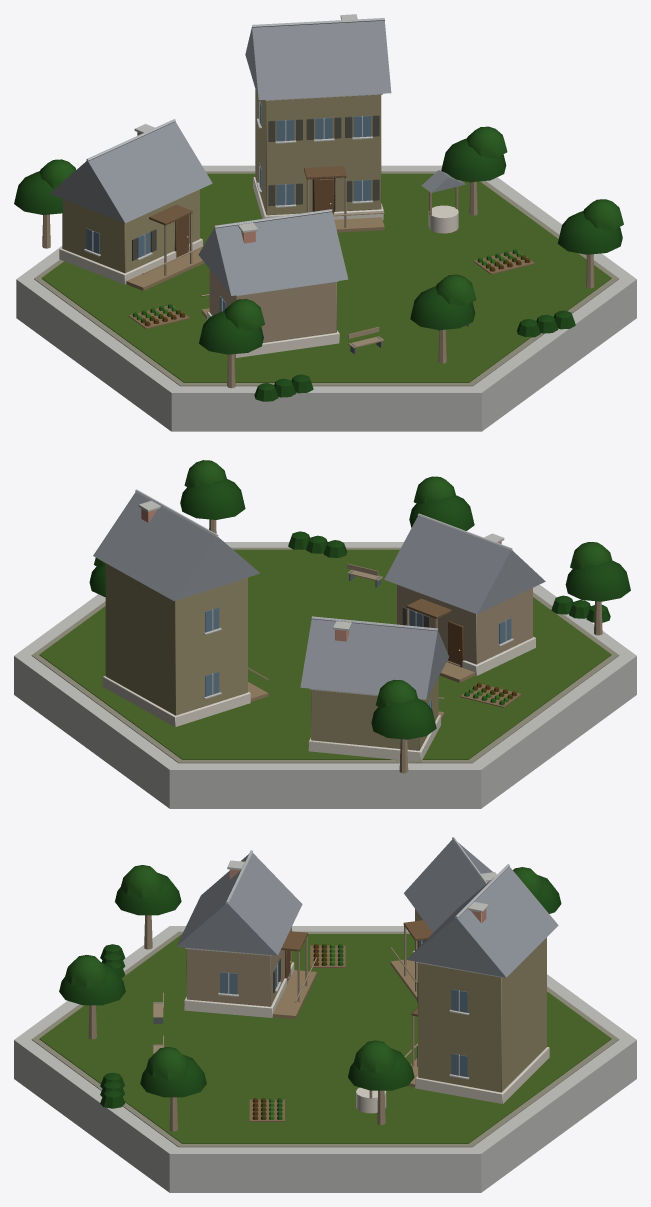
Rendered from cottage_us.glb.
The picture shows the model from 3 angles, top to bottom: view 1: azimuth 30°, elevation 25°; view 2: azimuth 150°, elevation 25°; view 3: azimuth 270°, elevation 25°; orthographic projection.
Visible parts, largest first — view 1: turf, wall_concrete, roof_slate, wood, leaf, stone, pavers, glass, metal, earth; view 2: turf, wall_concrete, wood, roof_slate, leaf, pavers, stone, glass, metal; view 3: turf, wall_concrete, wood, roof_slate, leaf, pavers, stone, glass, earth, metal.
Part boxes in pixels (x1,y1,x2,y2): turf: (41,173,611,382); wall_concrete: (16,14,636,431); roof_slate: (50,20,465,295); wood: (42,89,594,388); leaf: (14,126,623,401); stone: (59,177,458,357); pavers: (34,171,619,386); glass: (86,100,371,312); metal: (86,18,384,228); earth: (128,251,534,329); turf: (39,549,611,759); wall_concrete: (14,500,636,808); wood: (105,519,602,773); roof_slate: (93,492,545,699); leaf: (89,460,630,739); pavers: (31,547,619,763); stone: (102,636,535,762); glass: (205,607,511,708); metal: (135,489,512,631); turf: (39,934,611,1143); wall_concrete: (14,860,636,1192); wood: (88,909,546,1131); roof_slate: (176,839,558,977); leaf: (59,865,561,1119); pavers: (31,931,619,1147); stone: (184,950,549,1113); glass: (220,940,467,1077); earth: (249,945,345,1121); metal: (225,837,509,918).
Size of the model in its own units: 21.3 by 9.71 by 24.6.
